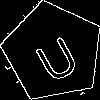U: (28, 27, 83, 85)
